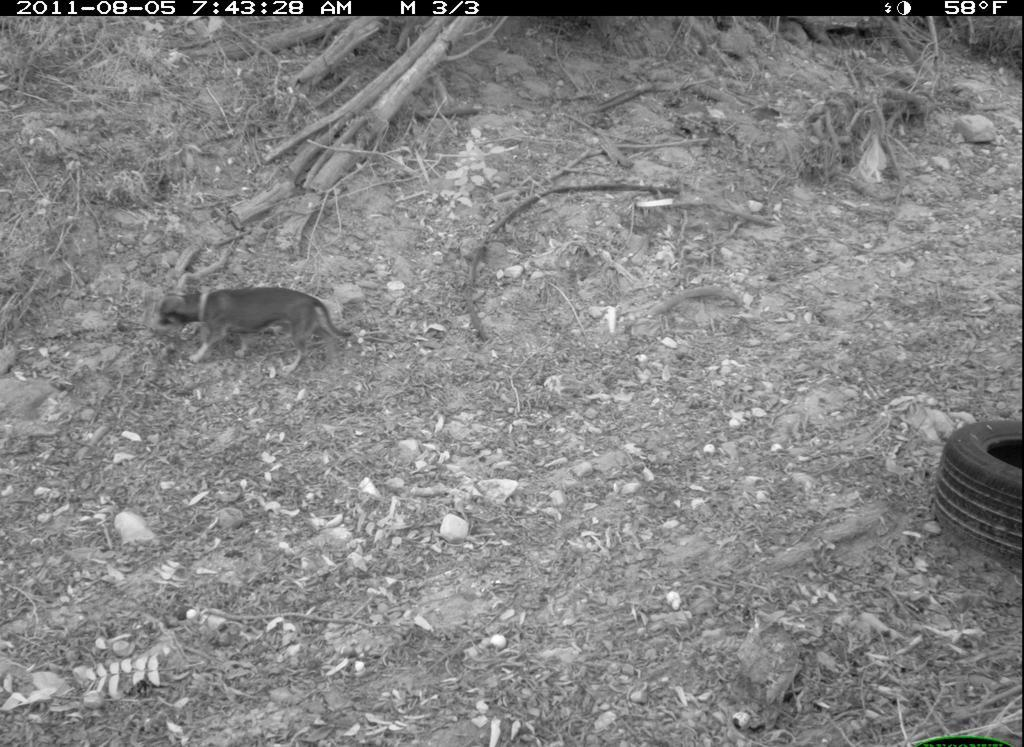dog: (144, 277, 356, 382)
